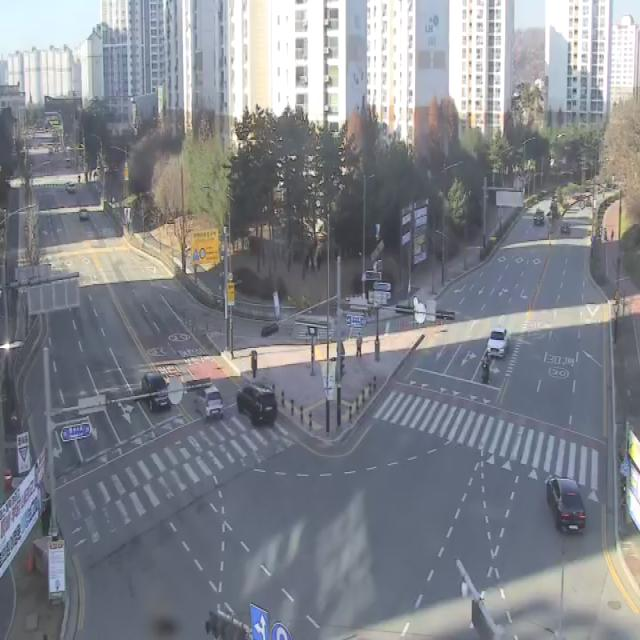Car: (546, 476, 586, 536), (237, 383, 278, 427), (141, 372, 171, 412), (194, 383, 223, 421), (534, 206, 544, 225), (79, 208, 90, 222), (561, 220, 571, 235)
